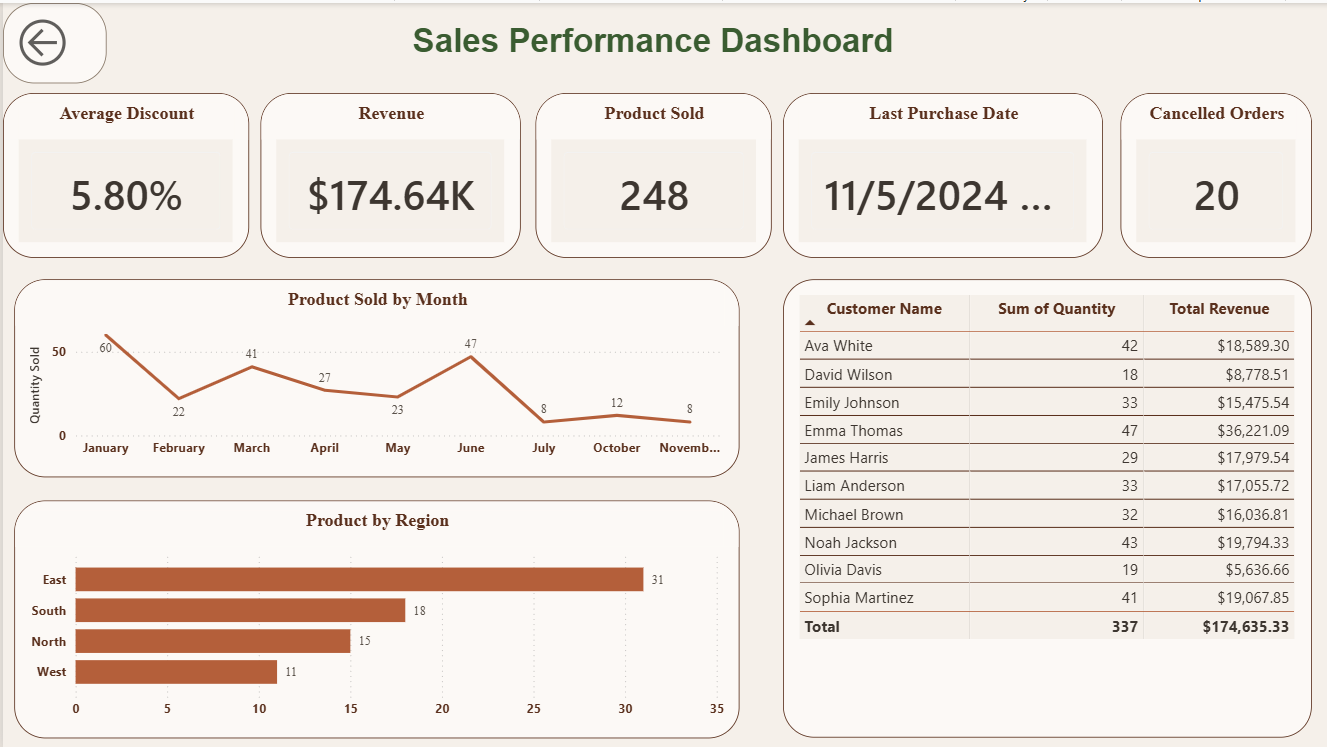

The page's visual inventory and layout, read from the dashboard file:
{"tool":"powerbi","page":{"name":"Product Detail Page","canvas":[1280,720],"ordinal":2},"visuals":[{"type":"actionButton","box":[0,0,100.1,77.2],"z":0},{"type":"cardVisual","title":"Revenue","fields":{"Data":["Sales.Total Revenue"]},"box":[248.5,86.9,250.9,159.3],"z":1000},{"type":"cardVisual","title":"Product Sold","fields":{"Data":["Sales.Quantity Sold"]},"box":[513.9,86.9,228,159.3],"z":2000},{"type":"cardVisual","title":"Average Discount","fields":{"Data":["Sales.Average Discount"]},"box":[0,86.9,237.7,159.3],"z":3000},{"type":"cardVisual","title":"Cancelled Orders","fields":{"Data":["Sales.Cancelled Orders"]},"box":[1078.6,86.9,184.6,159.3],"z":4000},{"type":"lineChart","title":"Product Sold by Month","fields":{"Y":["Sales.Quantity Sold"],"Category":["Date.Date.Variation.Date Hierarchy.Month"]},"box":[11.2,266.9,700.1,191.2],"z":5000},{"type":"barChart","title":"Product by Region","fields":{"Category":["Sales.Region"],"Y":["CountNonNull(Sales.Product)"]},"box":[10.9,480.2,699.7,229.2],"z":6000},{"type":"tableEx","fields":{"Values":["Sales.Customer Name","Sum(Sales.Quantity)","Sales.Total Revenue"]},"box":[752.8,266.6,510.3,442.8],"z":7000},{"type":"textbox","box":[280.5,13.7,692.6,52.1],"z":8000},{"type":"cardVisual","title":"Last Purchase Date","fields":{"Data":["Date.Last Purchase Date"]},"box":[752.8,86.9,308.8,159.3],"z":9000}]}

Visuals, with their boxes in screenshot pixels (x1, y1, x2, y2), scaled from the page's 1280x720 canvas onto the 1327x747 screenshot:
actionButton: [x1=0, y1=0, x2=104, y2=80]
"Revenue" cardVisual: [x1=258, y1=90, x2=518, y2=255]
"Product Sold" cardVisual: [x1=533, y1=90, x2=769, y2=255]
"Average Discount" cardVisual: [x1=0, y1=90, x2=246, y2=255]
"Cancelled Orders" cardVisual: [x1=1118, y1=90, x2=1310, y2=255]
"Product Sold by Month" lineChart: [x1=12, y1=277, x2=737, y2=475]
"Product by Region" barChart: [x1=11, y1=498, x2=737, y2=736]
tableEx - Sales.Customer Name x Sum(Sales.Quantity): [x1=780, y1=277, x2=1309, y2=736]
textbox: [x1=291, y1=14, x2=1009, y2=68]
"Last Purchase Date" cardVisual: [x1=780, y1=90, x2=1101, y2=255]
